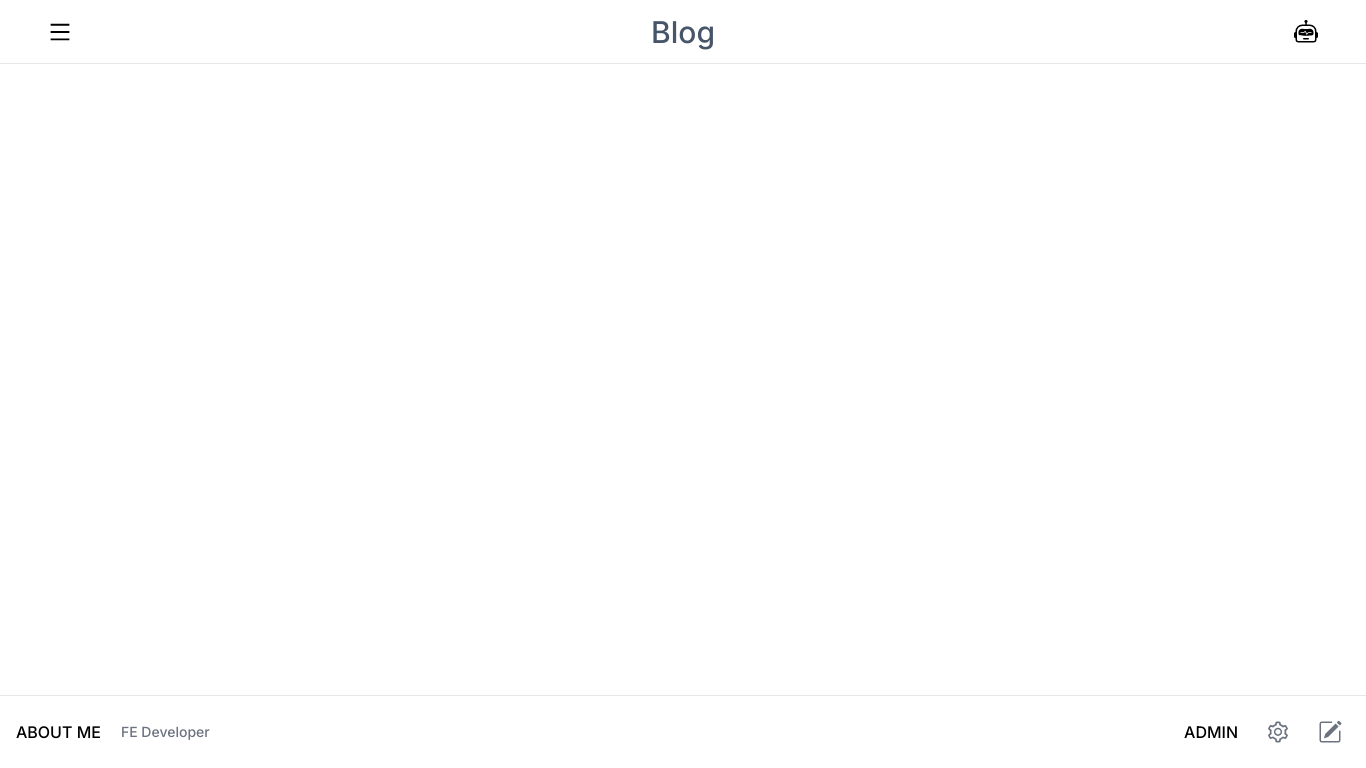
홈페이지 테스트 › 사이드바
The width and height of the screenshot is (1366, 768).
Click the button with test id "sidebarToggle".
click(60, 32)  # box [40, 12, 80, 52]
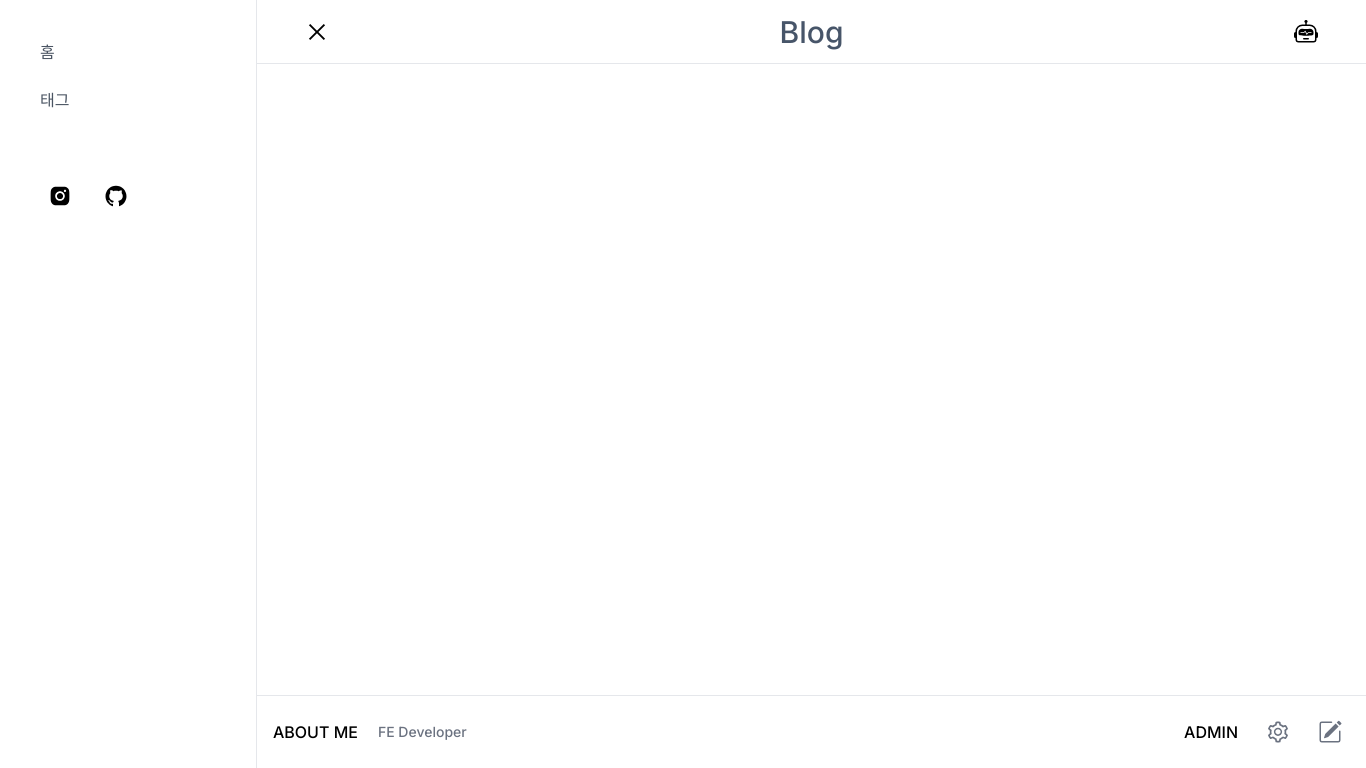
Expected: the link "홈" is shown, [40, 42, 55, 62]
Expected: the link "태그" is shown, [40, 90, 70, 110]
